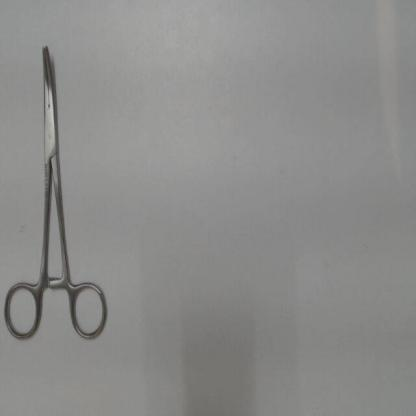Crile Artery Forceps: (1, 37, 113, 352)
